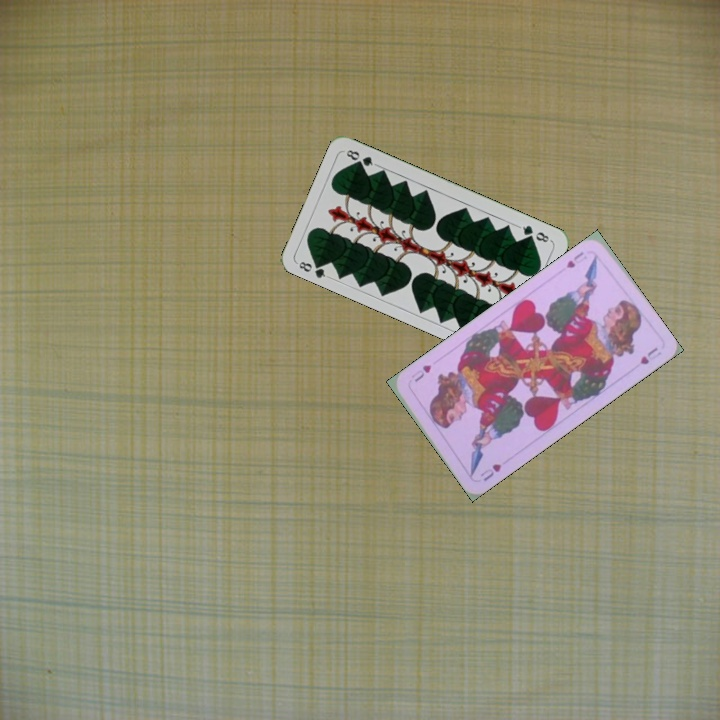G8: (515, 221, 553, 245), (295, 257, 332, 281)
HU: (476, 460, 504, 484), (562, 248, 590, 271)
